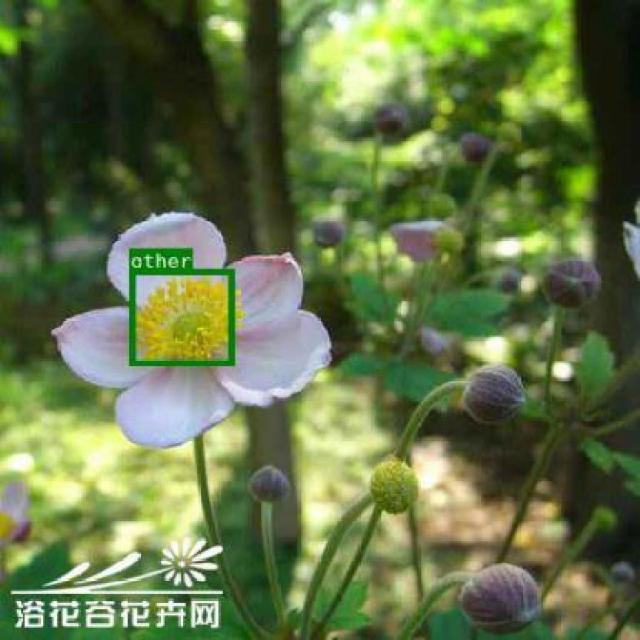other: (128, 268, 234, 364)
